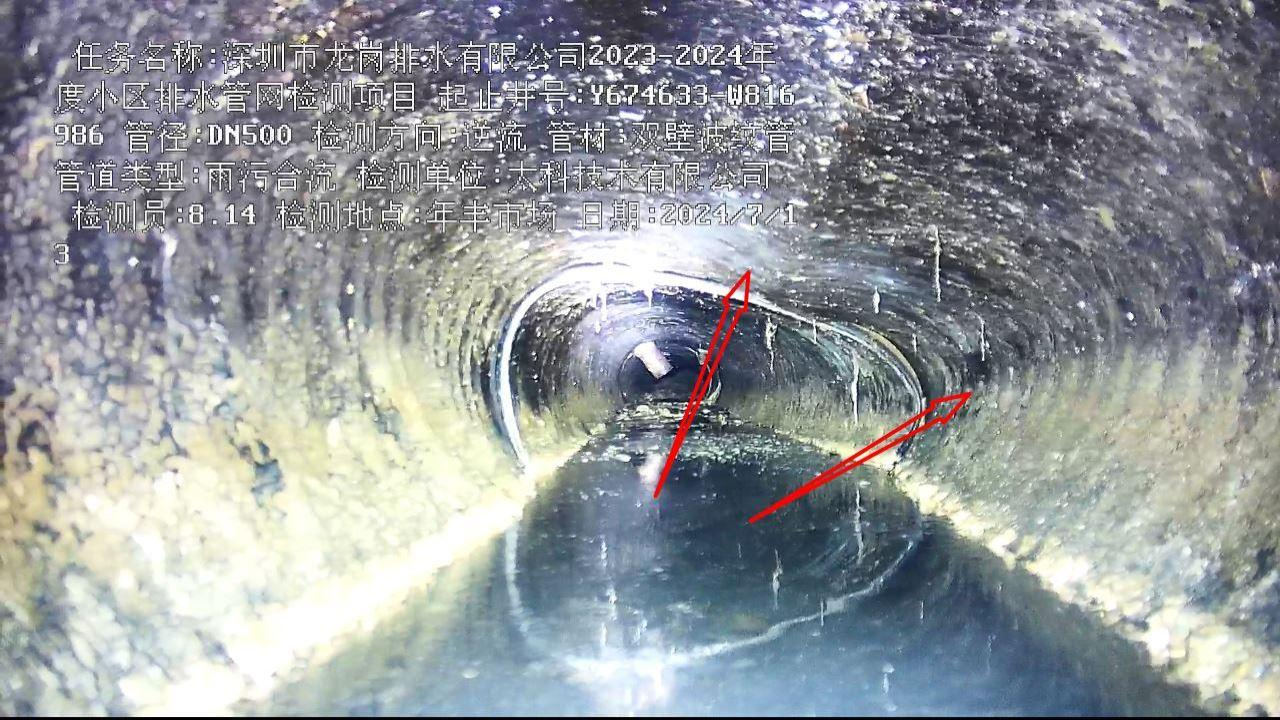BX: (476, 238, 1000, 555)
